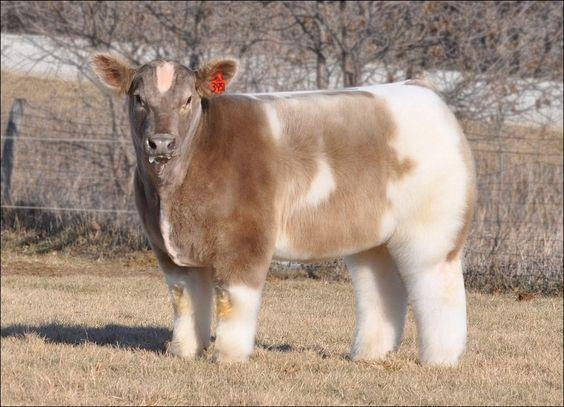cow: (73, 26, 493, 351)
